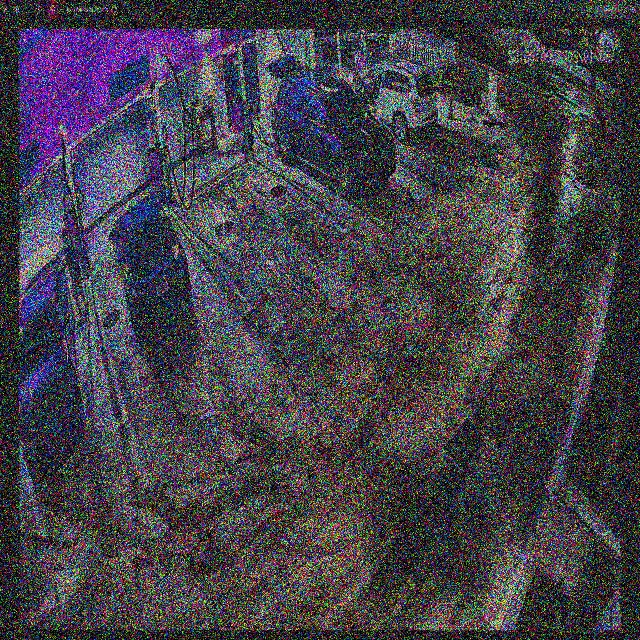Car: (271, 73, 394, 199), (109, 195, 191, 334), (345, 60, 435, 140)
